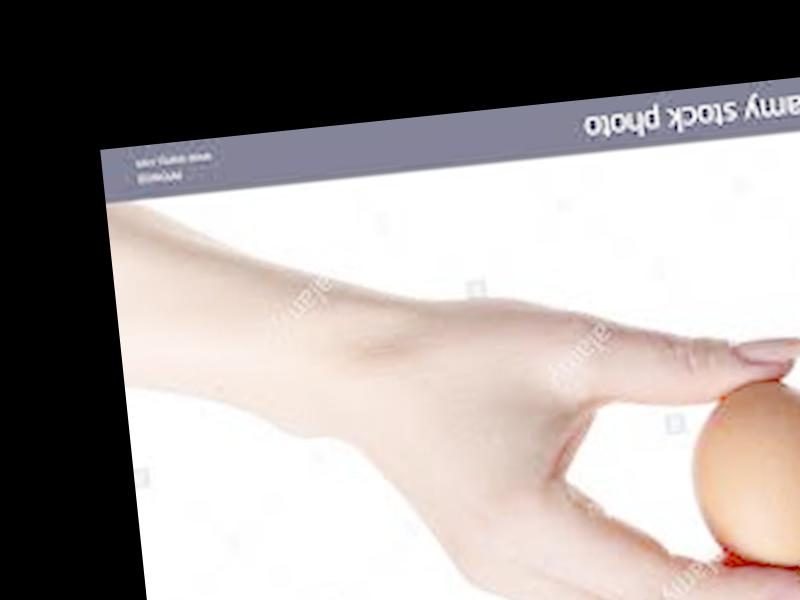Eggs: (676, 374, 800, 581)
